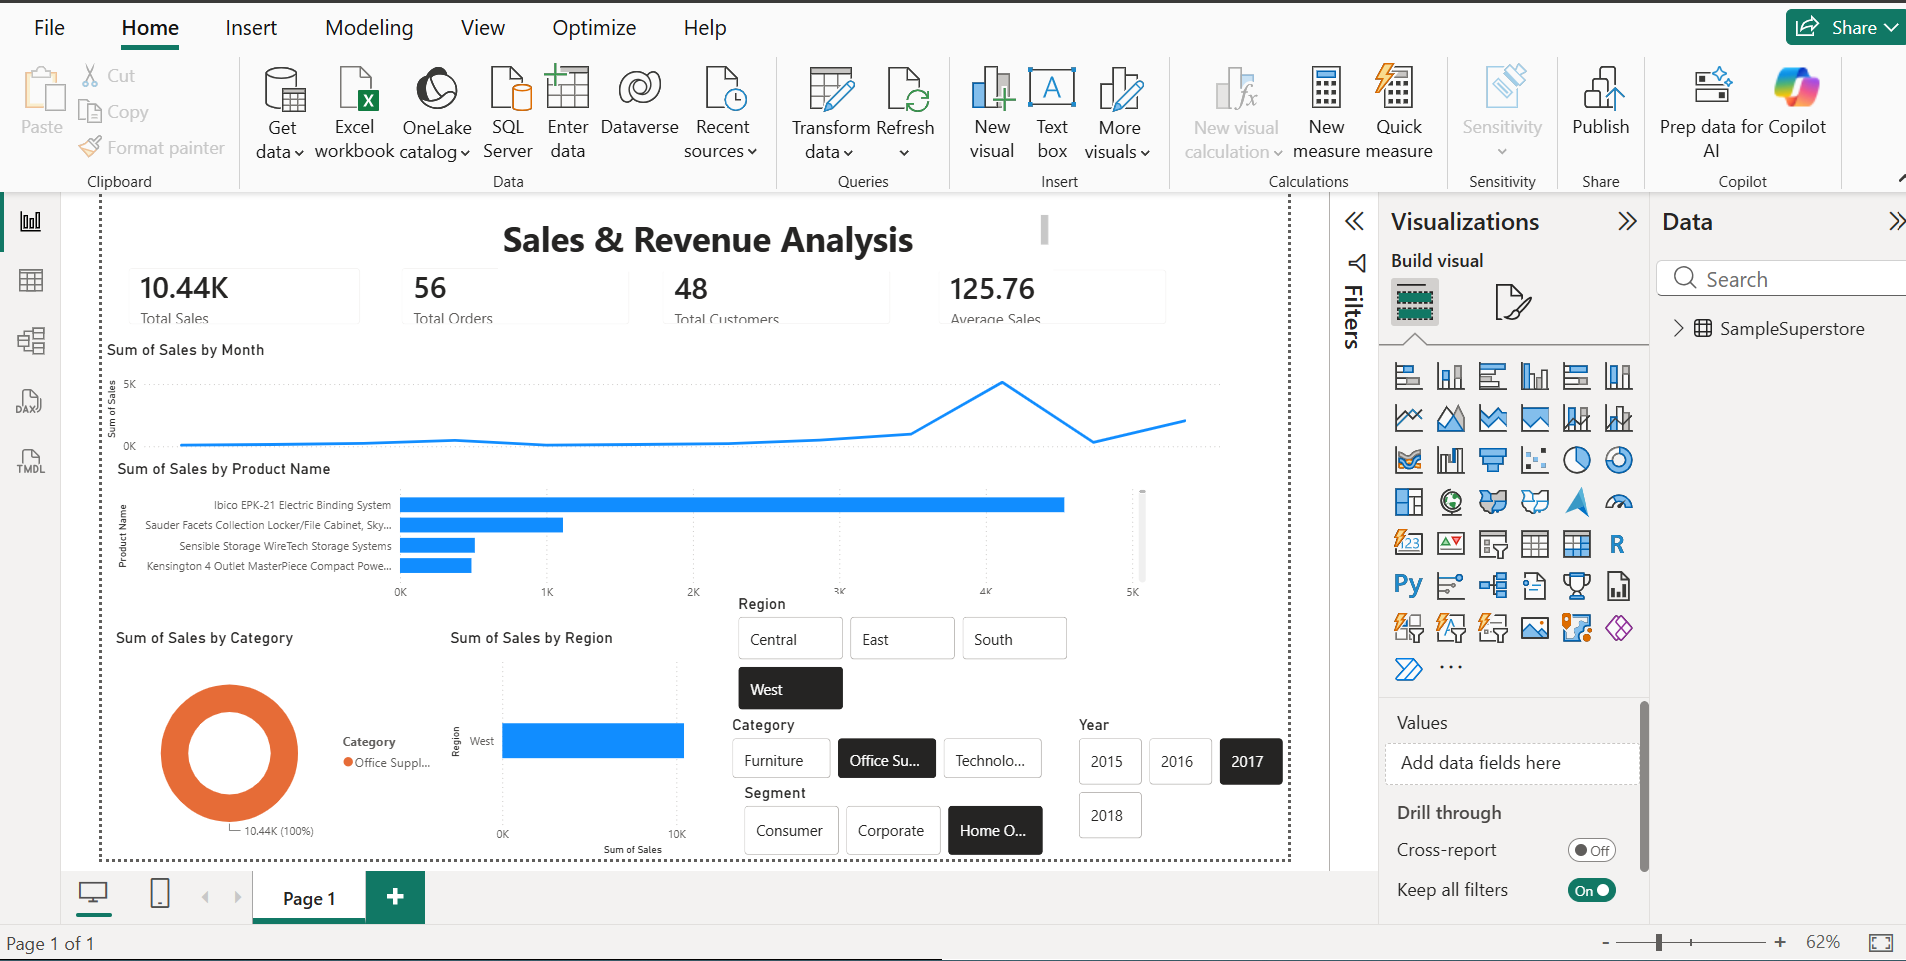

The dashboard page shown, as its layout file describes it:
{"tool":"powerbi","page":{"name":"Page 1","canvas":[1280,720],"ordinal":0},"visuals":[{"type":"cardVisual","fields":{"Data":["Sum(SampleSuperstore.Sales)"]},"box":[11.3,64.8,285,95.5],"z":0},{"type":"cardVisual","fields":{"Data":["SampleSuperstore.Total Orders"]},"box":[306,64.8,280.1,95.5],"z":1},{"type":"cardVisual","fields":{"Data":["SampleSuperstore.Total Customers"]},"box":[587.8,66.4,280.1,93.9],"z":2},{"type":"cardVisual","fields":{"Data":["SampleSuperstore.Average Sales"]},"box":[885.7,66.4,280.1,93.9],"z":3},{"type":"lineChart","fields":{"Category":["SampleSuperstore.Order Date.Variation.Date Hierarchy.Month"],"Y":["Sum(SampleSuperstore.Sales)"]},"box":[0,160.3,1212.8,127.9],"z":4},{"type":"clusteredBarChart","fields":{"Category":["SampleSuperstore.Product Name"],"Y":["Sum(SampleSuperstore.Sales)"]},"box":[11.3,288.2,1120.5,161.9],"z":5},{"type":"donutChart","fields":{"Category":["SampleSuperstore.Category"],"Y":["Sum(SampleSuperstore.Sales)"]},"box":[9.7,471.2,361.1,249.4],"z":6},{"type":"barChart","fields":{"Category":["SampleSuperstore.Region"],"Y":["Sum(SampleSuperstore.Sales)"]},"box":[370.8,471.2,357.8,249.4],"z":7},{"type":"advancedSlicerVisual","fields":{"Values":["SampleSuperstore.Region"]},"box":[681.7,434,367.6,131.2],"z":8},{"type":"advancedSlicerVisual","fields":{"Values":["SampleSuperstore.Category"]},"box":[675.2,565.1,346.5,72.9],"z":9},{"type":"advancedSlicerVisual","fields":{"Values":["SampleSuperstore.Segment"]},"box":[688.2,638,333.6,82.6],"z":10},{"type":"advancedSlicerVisual","fields":{"Values":["SampleSuperstore.Order Date.Variation.Date Hierarchy.Year"]},"box":[1049.3,565.1,231.5,137.6],"z":11},{"type":"textbox","box":[427.5,19.4,599.1,66.4],"z":12}]}

Visuals, with their boxes on the page's 1280x720 design canvas (x1, y1, x2, y2). These are canvas units, not pixel positions in the 1906x961 screenshot, which may show the page scaled, cropped or inside an application window:
cardVisual - Sum(SampleSuperstore.Sales): l=11, t=65, r=296, b=160
cardVisual - SampleSuperstore.Total Orders: l=306, t=65, r=586, b=160
cardVisual - SampleSuperstore.Total Customers: l=588, t=66, r=868, b=160
cardVisual - SampleSuperstore.Average Sales: l=886, t=66, r=1166, b=160
lineChart - SampleSuperstore.Order Date.Variation.Date Hierarchy.Month x Sum(SampleSuperstore.Sales): l=0, t=160, r=1213, b=288
clusteredBarChart - SampleSuperstore.Product Name x Sum(SampleSuperstore.Sales): l=11, t=288, r=1132, b=450
donutChart - SampleSuperstore.Category x Sum(SampleSuperstore.Sales): l=10, t=471, r=371, b=721
barChart - SampleSuperstore.Region x Sum(SampleSuperstore.Sales): l=371, t=471, r=729, b=721
advancedSlicerVisual - SampleSuperstore.Region: l=682, t=434, r=1049, b=565
advancedSlicerVisual - SampleSuperstore.Category: l=675, t=565, r=1022, b=638
advancedSlicerVisual - SampleSuperstore.Segment: l=688, t=638, r=1022, b=721
advancedSlicerVisual - SampleSuperstore.Order Date.Variation.Date Hierarchy.Year: l=1049, t=565, r=1281, b=703
textbox: l=428, t=19, r=1027, b=86
